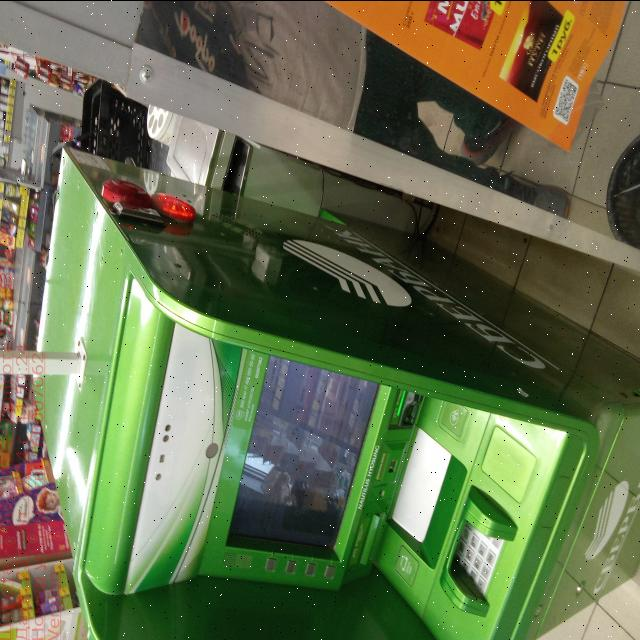bank: (29, 147, 640, 640)
